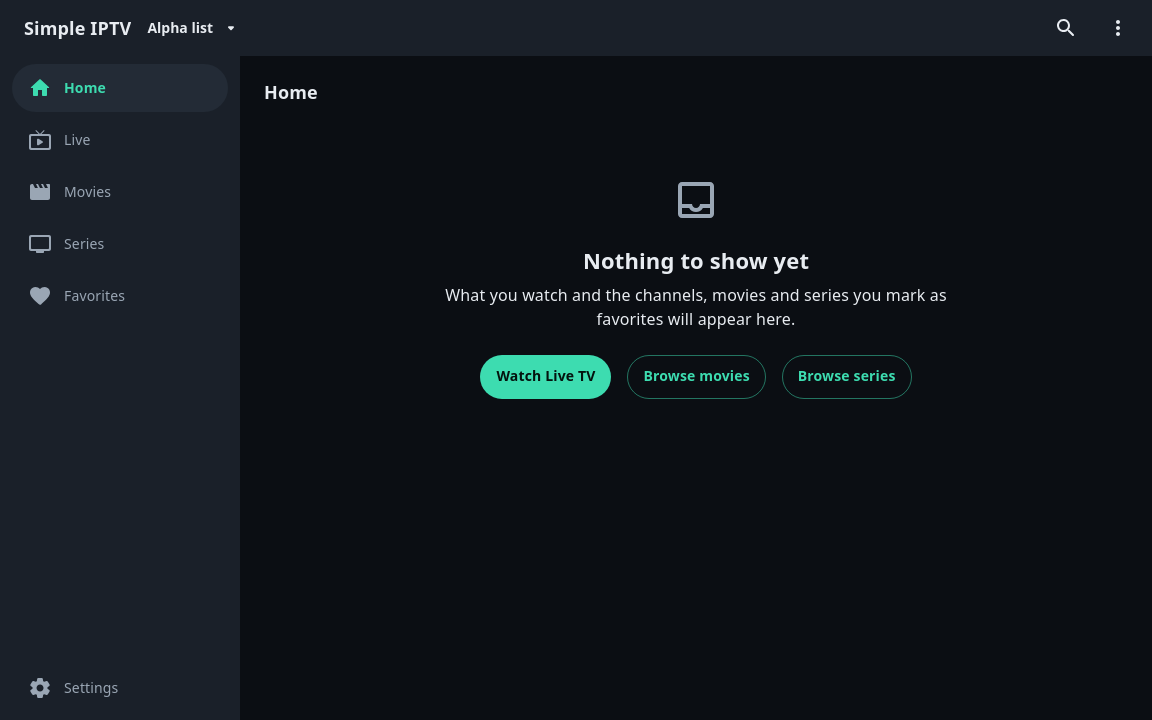
Test case: SRC-08 — top-bar list selector › "Manage lists…" opens My lists
What coordinates should you click on to do the following:
click the button "Alpha list"
I would click on:
 (192, 28)
Its box is [139,6,245,50].
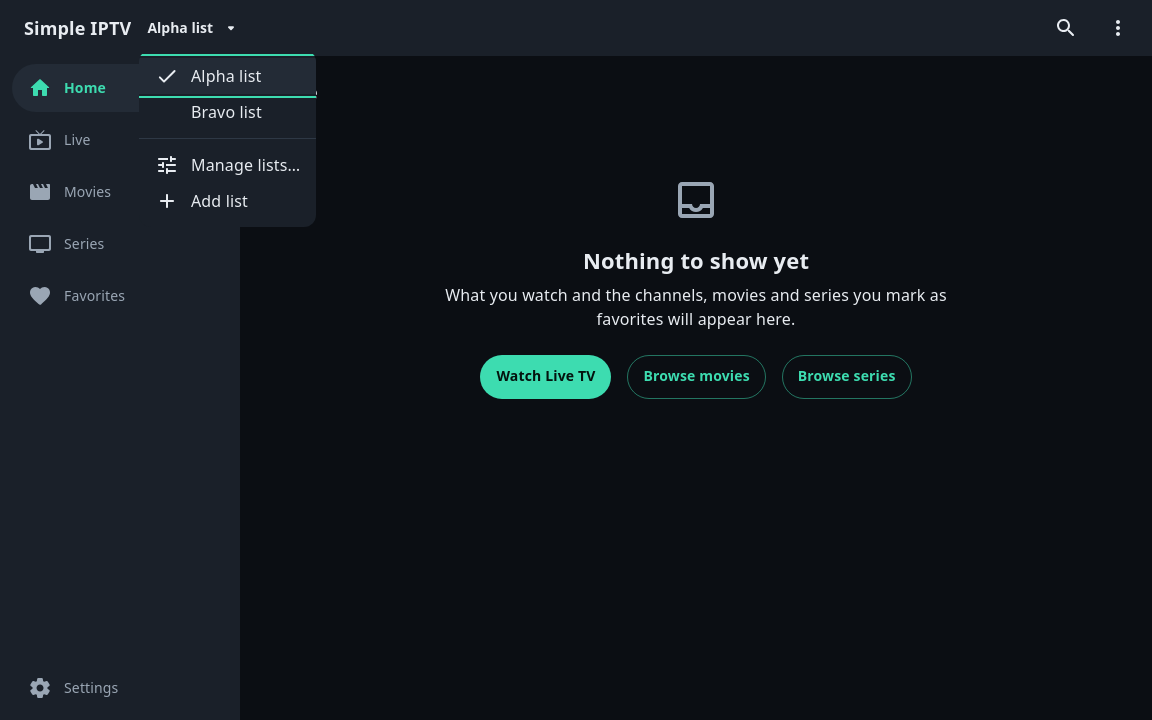
What coordinates should you click on to do the following:
click the menu item "Manage lists…"
I would click on:
 (228, 165)
Its box is [155,153,300,177].
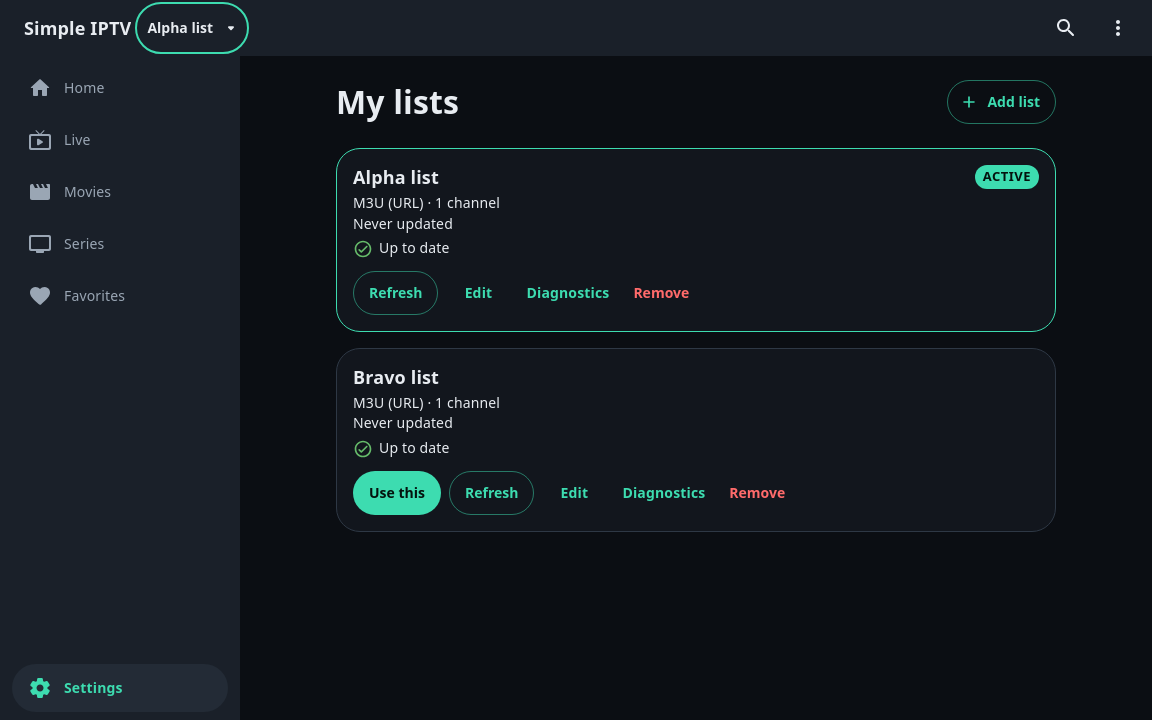
Result: the heading "My lists" is shown at [336,80,459,123]
